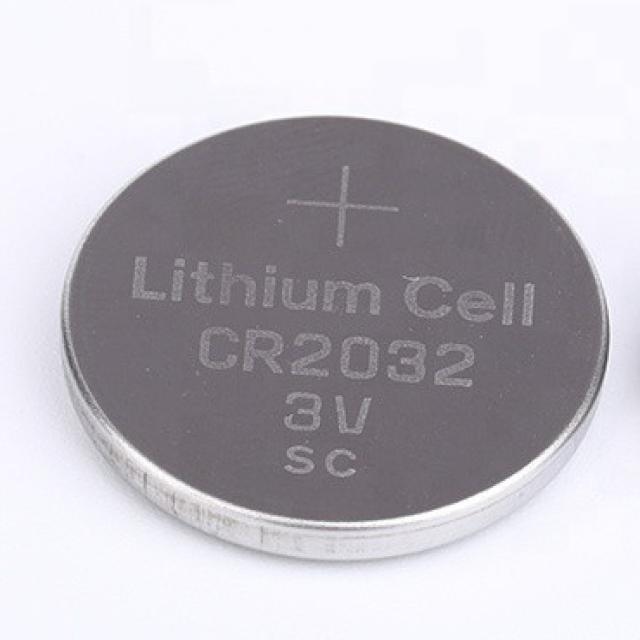COIN: (57, 111, 611, 563)
